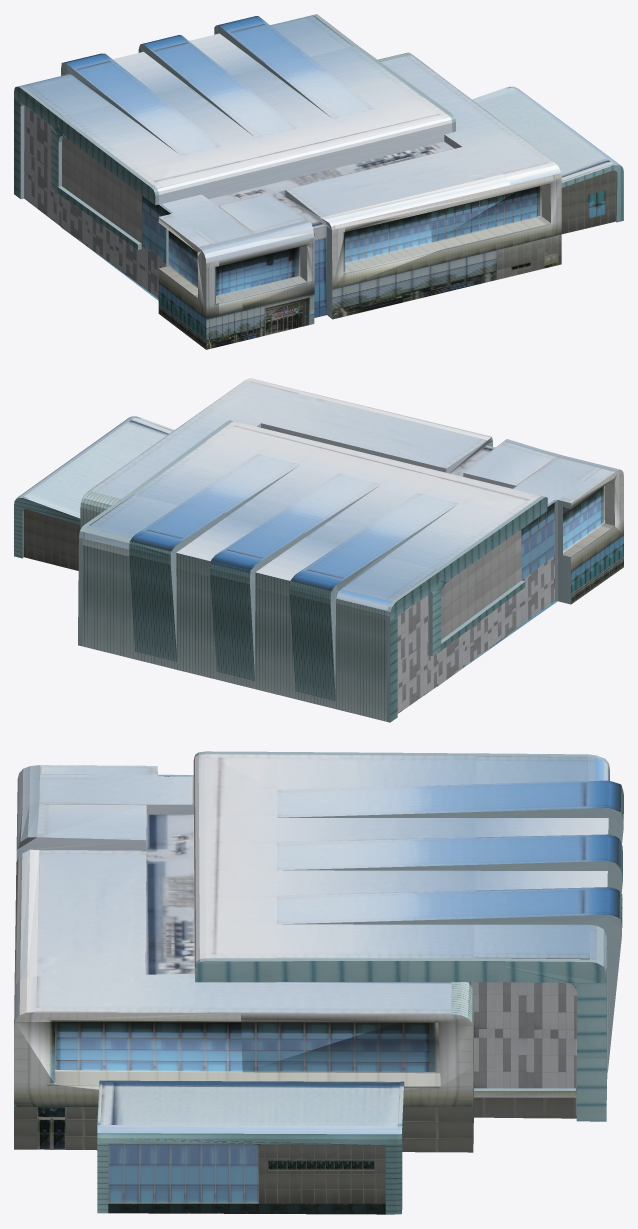
The picture shows the model from 3 angles, top to bottom: view 1: azimuth 30°, elevation 25°; view 2: azimuth 150°, elevation 25°; view 3: azimuth 270°, elevation 25°; orthographic projection. The views are drawn at different scales.
Parts seen in each view (by area): view 1: MainBuilding; view 2: MainBuilding; view 3: MainBuilding.
Boxes of the visible parts, <box> form: MainBuilding: <box>14,14,623,349</box>; MainBuilding: <box>14,378,623,722</box>; MainBuilding: <box>14,751,623,1214</box>.
Size of the model in its own units: 6.58 by 1.67 by 5.44.
1 material, 1 textured.
